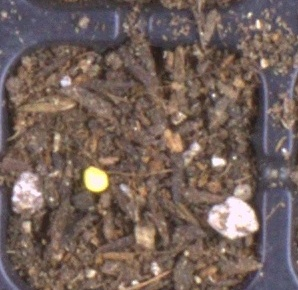chilli seed: (83, 164, 109, 192)
